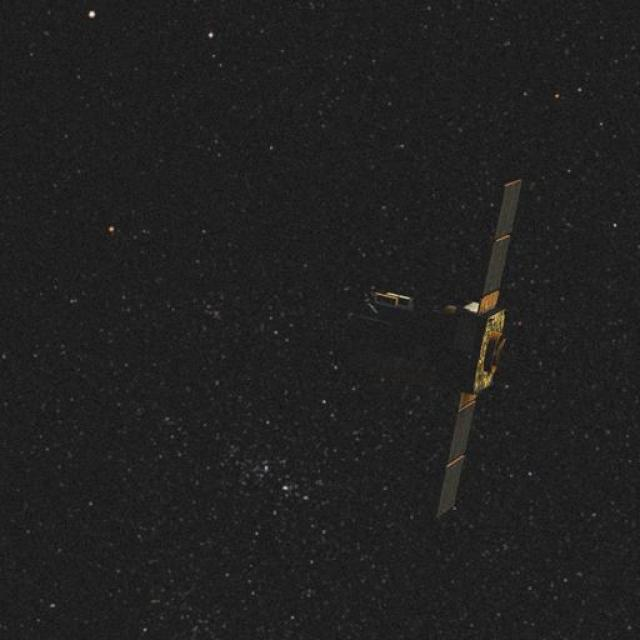soho: (367, 179, 541, 539)
